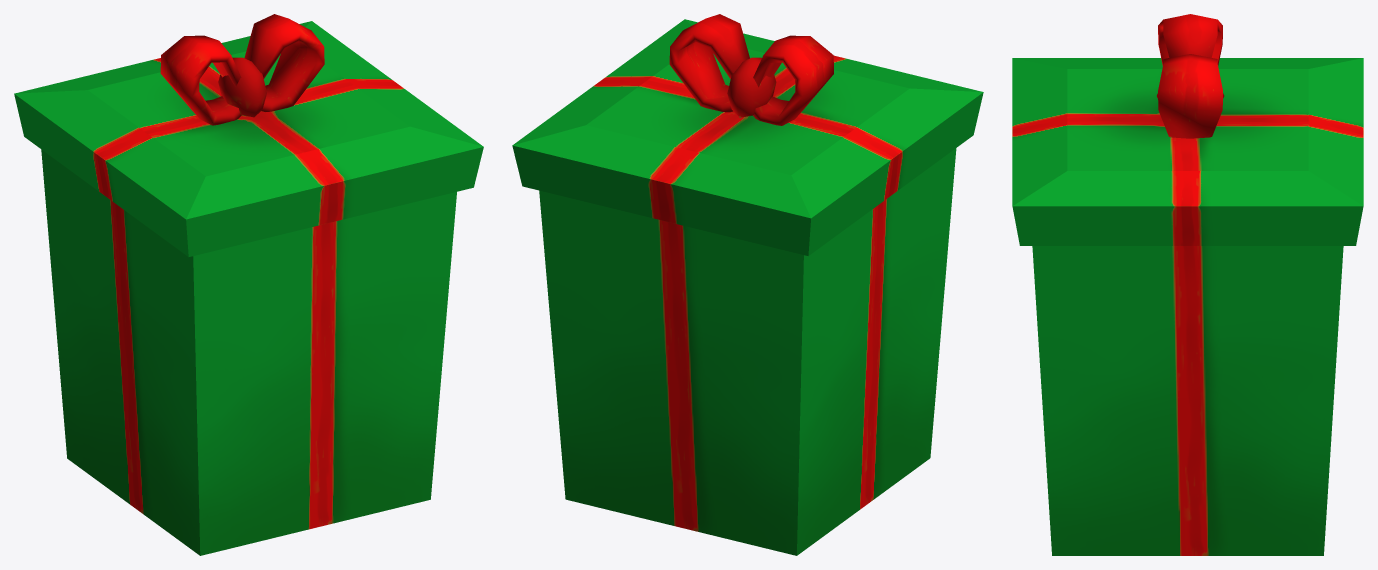
Rendered from presnts1.fbx.
The picture shows the model from 3 angles, left to right: view 1: azimuth 30°, elevation 25°; view 2: azimuth 150°, elevation 25°; view 3: azimuth 270°, elevation 25°; orthographic projection. The views are drawn at different scales.
Parts seen in each view (by area): view 1: Presents1; view 2: Presents1; view 3: Presents1.
Boxes of the visible parts, x1=… form: Presents1: x1=14, y1=14, x2=483, y2=555; Presents1: x1=512, y1=14, x2=983, y2=555; Presents1: x1=1012, y1=14, x2=1363, y2=555.
Size of the model in its own units: 2.14 by 3.09 by 2.14.
1 material, 1 textured.
